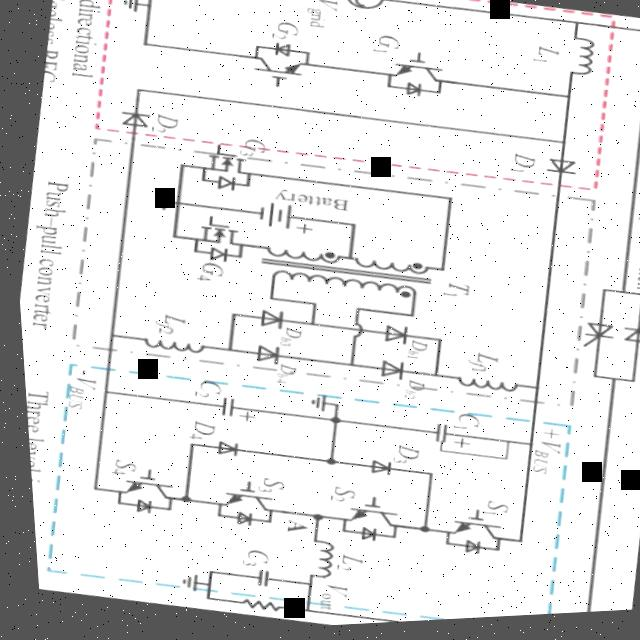capacitor: (204, 392, 238, 425), (234, 563, 269, 595), (421, 422, 449, 452)
diode: (570, 318, 617, 358), (106, 99, 156, 136), (241, 303, 290, 336), (372, 321, 418, 356), (242, 338, 288, 372), (363, 357, 410, 390), (196, 435, 244, 465), (197, 170, 242, 201), (613, 311, 640, 359), (536, 158, 579, 188), (355, 455, 394, 485), (343, 523, 377, 553), (264, 37, 298, 65), (120, 493, 154, 520), (196, 244, 229, 271), (394, 81, 426, 106), (222, 510, 254, 534), (448, 540, 483, 561)
ground: (161, 566, 197, 598), (295, 392, 327, 420), (149, 191, 176, 217), (112, 0, 145, 18)
inductor: (261, 262, 420, 317), (343, 251, 432, 289), (122, 328, 211, 364), (254, 239, 340, 276), (553, 33, 605, 90), (288, 536, 339, 590), (442, 369, 522, 403)
mosfet: (192, 142, 255, 186), (182, 211, 245, 254)
node: (310, 457, 334, 472), (300, 511, 321, 527), (317, 417, 340, 430), (408, 528, 426, 542)
resistor: (219, 593, 283, 623)
source: (242, 197, 300, 239), (333, 0, 395, 21)
transistor: (372, 49, 457, 97), (201, 475, 280, 524), (433, 502, 506, 553), (241, 52, 317, 98), (104, 462, 173, 507), (331, 494, 398, 539)
